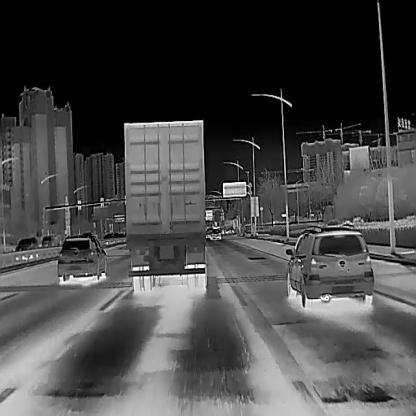car: (285, 222, 373, 306), (57, 231, 107, 281), (15, 236, 38, 250), (41, 233, 60, 246), (210, 227, 222, 239)
truck: (124, 120, 206, 290)
